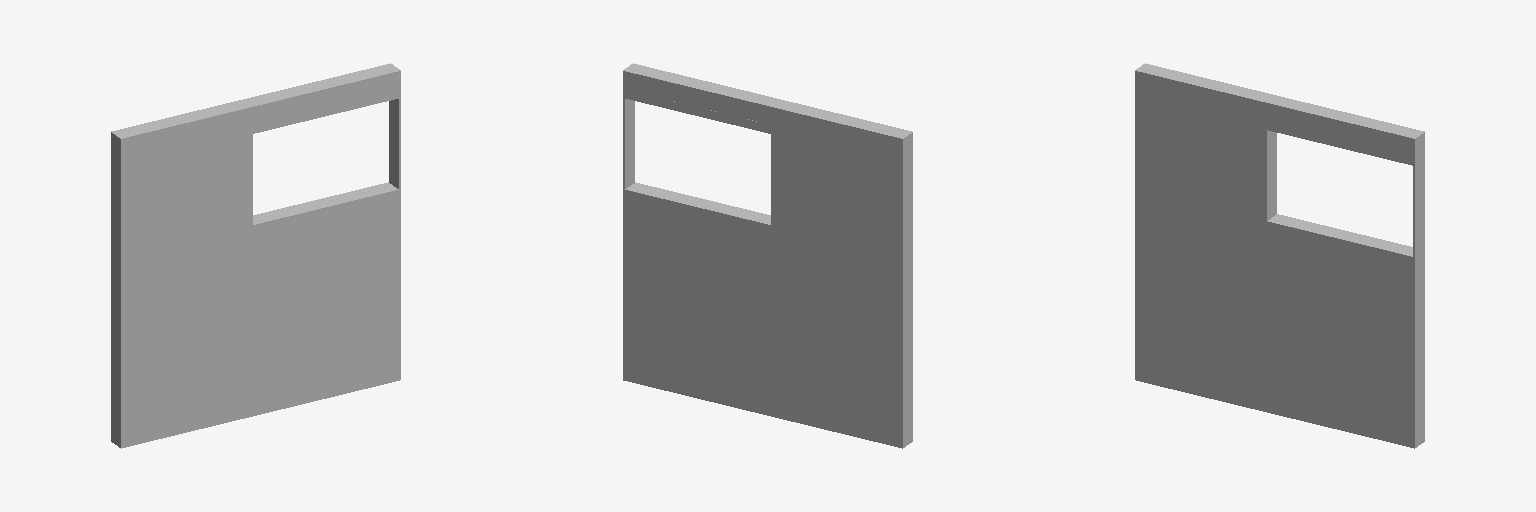
The model's file is df4d_right_board_a.obj.
3 views of the same model, side by side, from view 1: azimuth 30°, elevation 25°; view 2: azimuth 150°, elevation 25°; view 3: azimuth 330°, elevation 25° (orthographic).
Visible parts, largest first — view 1: df4d_right_broad_a; view 2: df4d_right_broad_a; view 3: df4d_right_broad_a.
Part boxes in pixels (left/top/right/bottom): df4d_right_broad_a: left=111, top=63, right=400, bottom=448; df4d_right_broad_a: left=623, top=63, right=912, bottom=448; df4d_right_broad_a: left=1135, top=63, right=1424, bottom=448.
Size of the model in its own units: 2.01 by 2.12 by 0.1258.